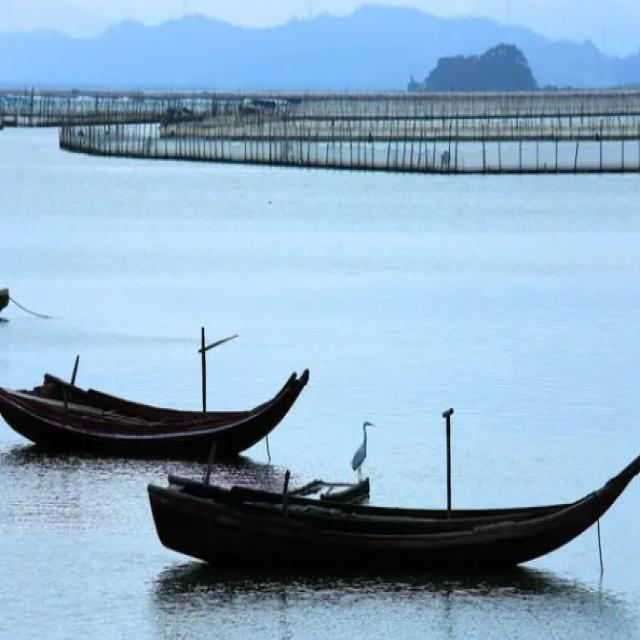fishing boat: (150, 400, 640, 576), (4, 315, 311, 453)
